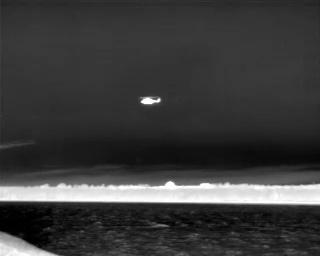HELICOPTER: (135, 91, 166, 110)
